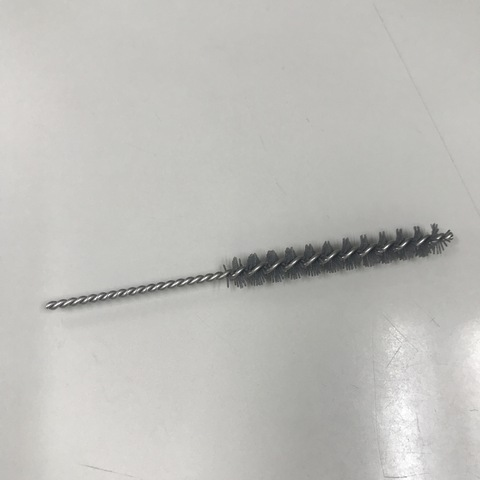Twist Brush-A: (39, 221, 458, 313)
